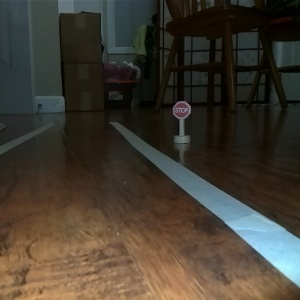stop sign: (170, 99, 194, 146)
